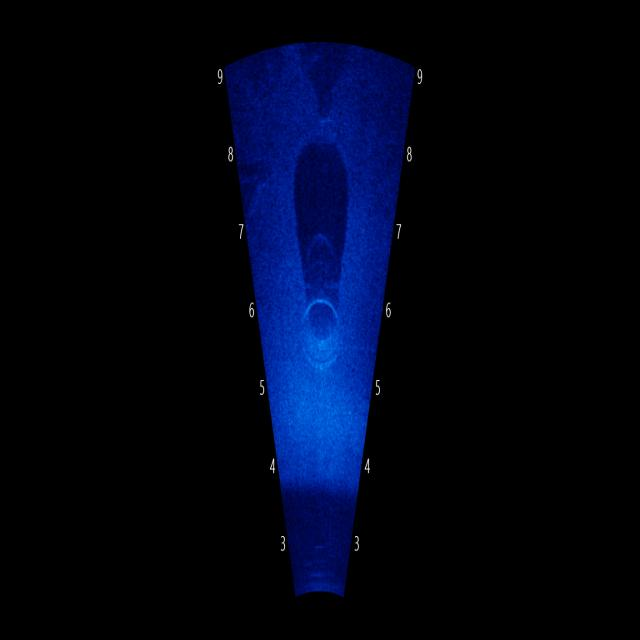circle: (284, 254, 358, 378)
